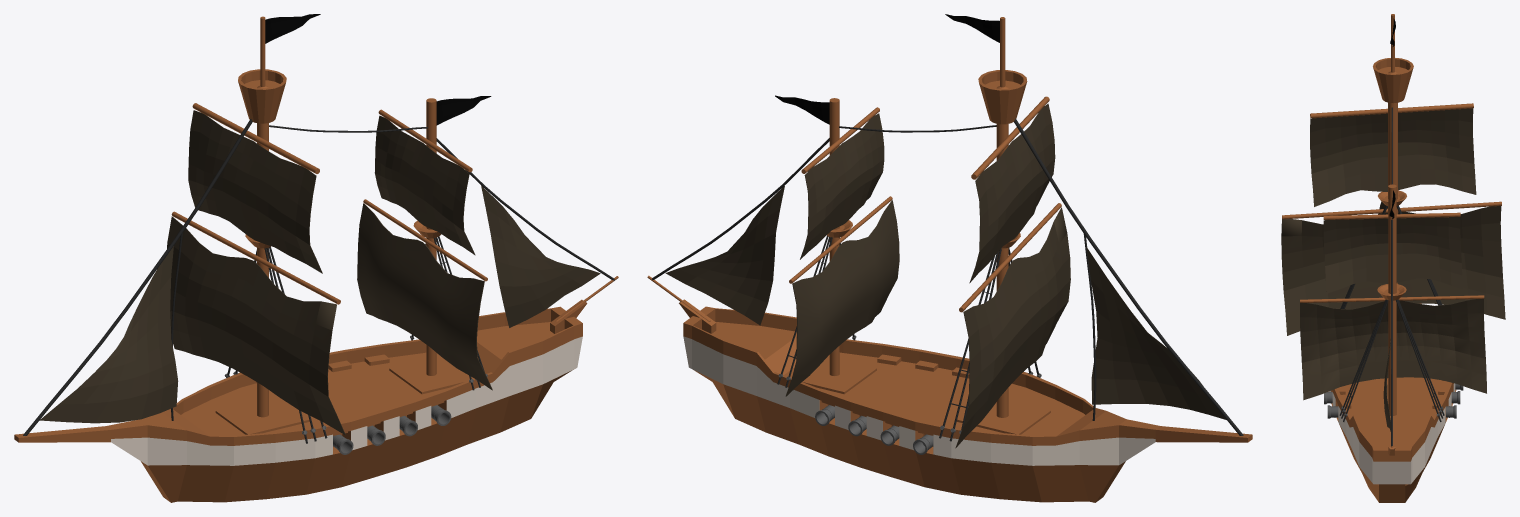
Rendered from barcoEnemigo.fbx.
3 views of the same model, side by side, from view 1: azimuth 30°, elevation 25°; view 2: azimuth 150°, elevation 25°; view 3: azimuth 270°, elevation 25° (orthographic). The views are drawn at different scales.
Parts seen in each view (by area): view 1: Cube.001; view 2: Cube.001; view 3: Cube.001.
Part boxes in pixels (bbox=[...]): Cube.001: bbox=[14, 14, 618, 502]; Cube.001: bbox=[647, 14, 1252, 502]; Cube.001: bbox=[1281, 14, 1505, 502].
Bounding box in the file's own units: 787 × 573 × 304.
